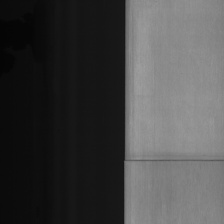welding_line: (122, 155, 224, 166)
